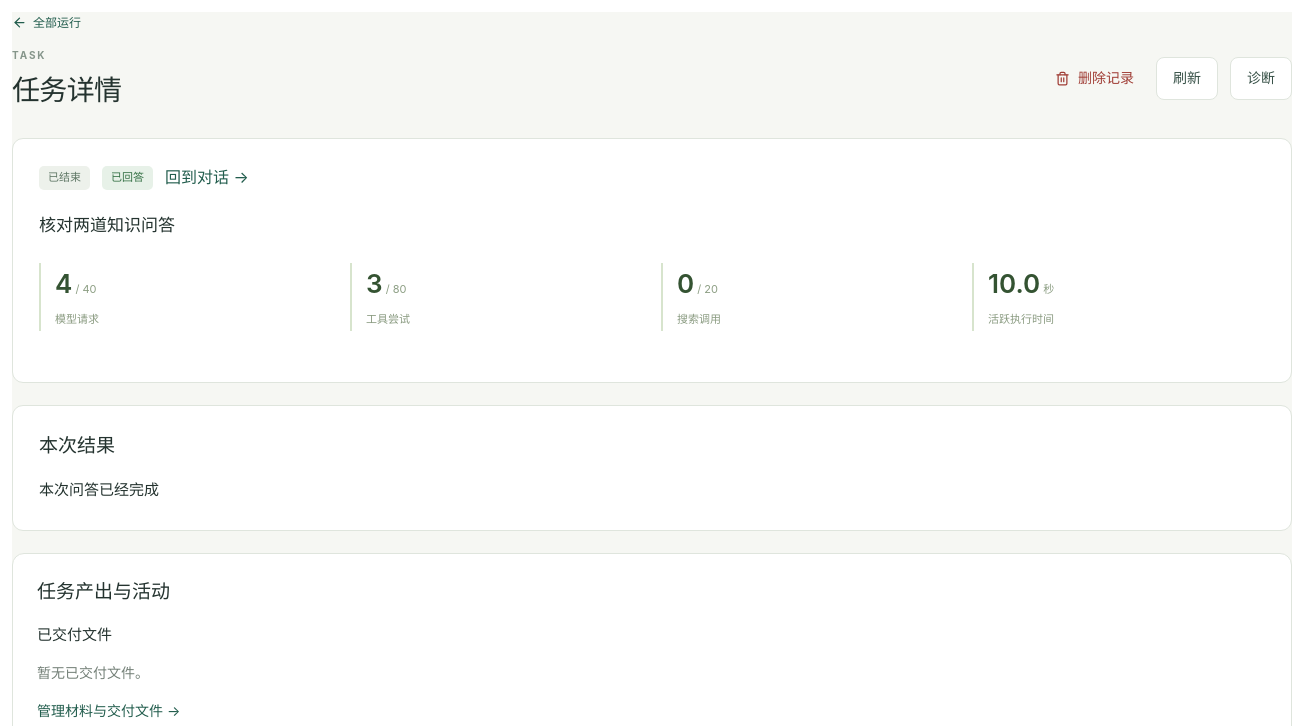
it: waits for explicit diagnostic opening even when the initial run status arrives late
This screenshot has width=1304, height=726.
Expected: the heading "任务详情" is shown, [12,71,121,110]
Expected: the text "运行标识与检查点" is not shown
Step 1. Click the link "诊断" → (1261, 79), box [1230,58,1292,100]
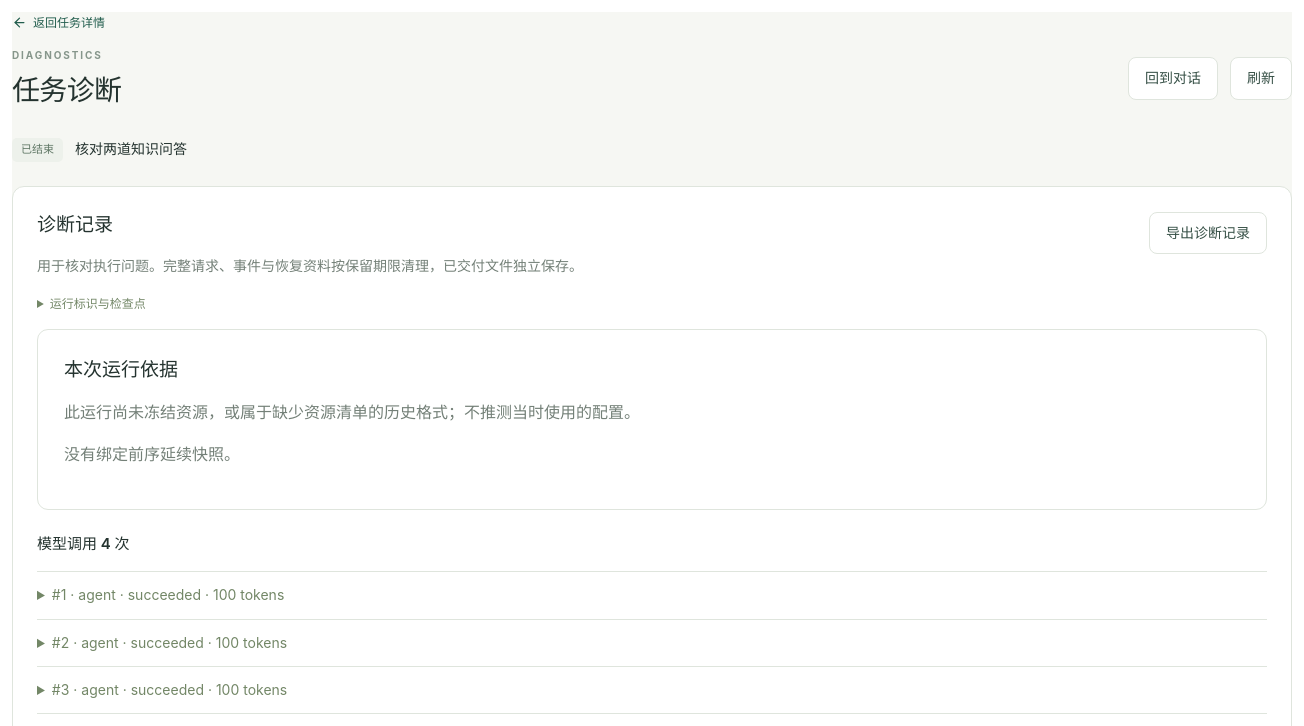
Now the heading "模型调用 4 次" is shown, box [37,534,130,553]
Step 2. Click the link "返回任务详情" → (58, 22), box [12,13,105,32]
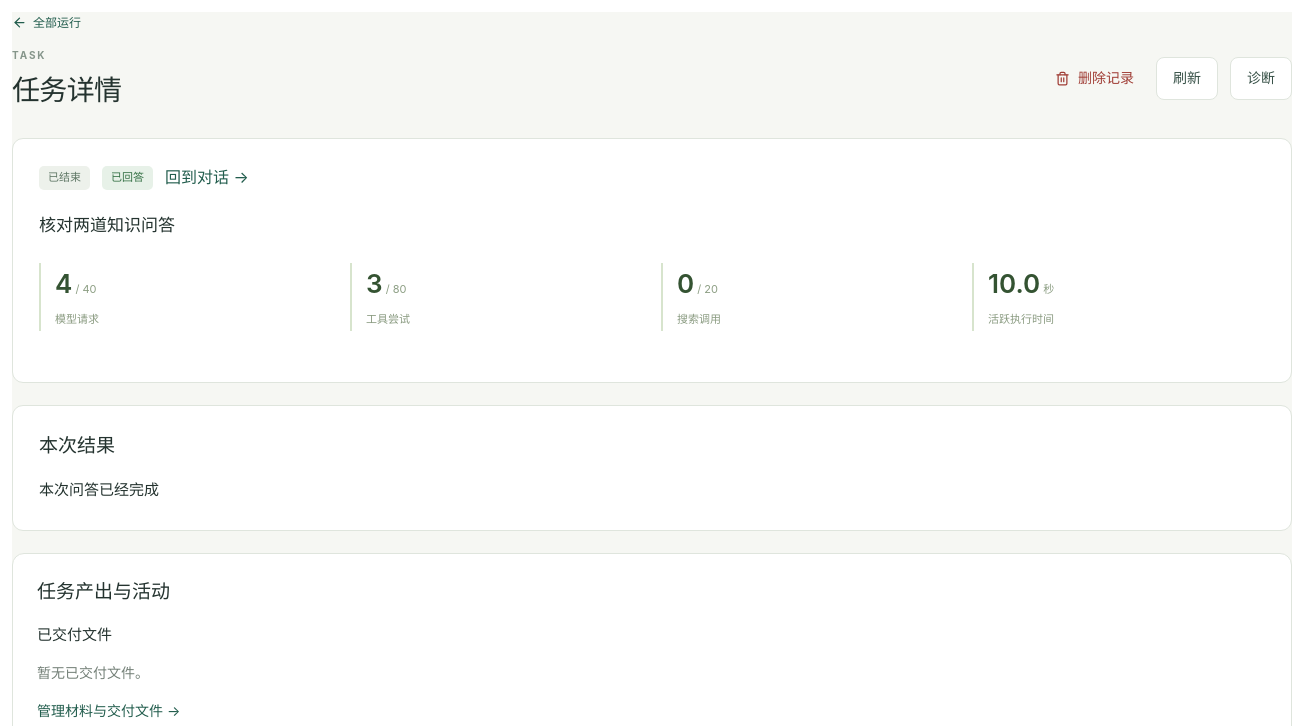
Now the heading "任务诊断" is gone
